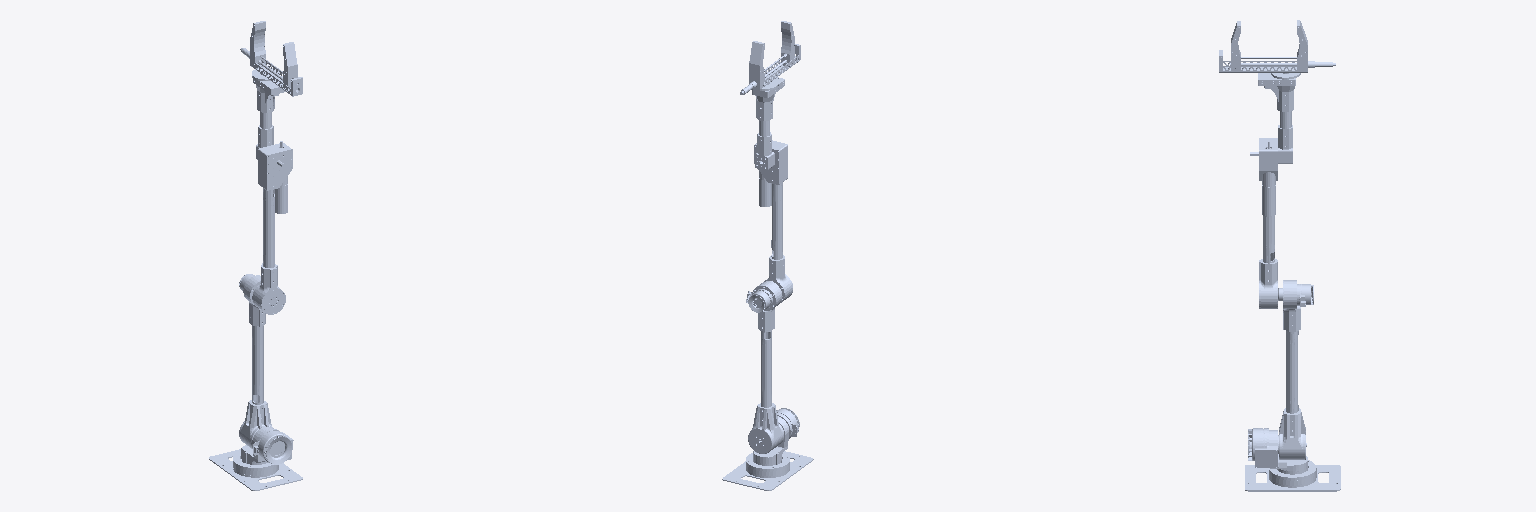
URDF robot description (brazo_2):
<?xml version="1.0" encoding="utf-8"?>
<robot name="brazo_2">

  <!-- ========================================== -->
  <!-- LINK BASE DEL BRAZO                        -->
  <!-- ========================================== -->
  <link name="base">
    <inertial>
      <origin xyz="1.39958423819865E-17 -4.11946375579782E-18 0.00933047710244957" rpy="0 0 0" />
      <mass value="0.594564150366253" />
      <inertia ixx="0.00220226641592648" ixy="3.38152256422411E-18" ixz="4.20144212304877E-18" iyy="0.00121595685384765" iyz="-4.68252440232623E-20" izz="0.00341204275167526" />
    </inertial>
    <visual>
      <origin xyz="0 0 0" rpy="0 0 0" />
      <geometry>
        <mesh filename="package://mi_rover_description/meshes/Brazo/base.STL" />
      </geometry>
      <material name="">
        <color rgba="0.866666666666667 0.909803921568627 1 1" />
      </material>
    </visual>
    <collision>
      <origin xyz="0 0 0" rpy="0 0 0" />
      <geometry>
        <mesh filename="package://mi_rover_description/meshes/Brazo/base.STL" />
      </geometry>
    </collision>
  </link>

  <!-- ========================================== -->
  <!-- LINK 1                                     -->
  <!-- ========================================== -->
  <link name="Link_1">
    <inertial>
      <origin xyz="0.00830108225016004 -0.0424137581999083 0.0474326767417051" rpy="0 0 0" />
      <mass value="1.05857299570185" />
      <inertia ixx="0.00117937368473566" ixy="0.000121093366641107" ixz="-5.0011054142264E-05" iyy="0.00108030167307535" iyz="0.000222958830256965" izz="0.00122776170114691" />
    </inertial>
    <visual>
      <origin xyz="0 0 0" rpy="0 0 0" />
      <geometry>
        <mesh filename="package://mi_rover_description/meshes/Brazo/Link_1.STL" />
      </geometry>
      <material name="">
        <color rgba="0.866666666666667 0.909803921568627 1 1" />
      </material>
    </visual>
    <collision>
      <origin xyz="0 0 0" rpy="0 0 0" />
      <geometry>
        <mesh filename="package://mi_rover_description/meshes/Brazo/Link_1.STL" />
      </geometry>
    </collision>
  </link>

  <!-- ========================================== -->
  <!-- JOINT 1 (BASE GIRATORIA)                   -->
  <!-- Motor: goBILDA Yellow Jacket 50.9:1 (12 V) -->
  <!--        + tornillo sin fin 10:1 (supuesto) -->
  <!-- SIN LÍMITES DE POSICIÓN (continuous).      -->
  <!-- ========================================== -->
  <joint name="Joint_1" type="continuous">
    <origin xyz="0 0 0.03" rpy="0 0 0" />
    <parent link="base" />
    <child link="Link_1" />
    <axis xyz="0 0 -1" />
    <!-- velocity: 117 RPM / 10 = 1.23 rad/s                         -->
    <!-- effort: par de bloqueo 6.71 N·m x 10 x 0.5 = 33.6 N·m        -->
    <!-- (tope físico; el límite de uso lo pone la corriente en el control) -->
    <limit effort="33.6" velocity="1.23" />
    <dynamics damping="1.0" friction="0.05"/>
  </joint>

  <!-- ========================================== -->
  <!-- LINK 2                                     -->
  <!-- ========================================== -->
  <link name="Link_2">
    <inertial>
      <origin xyz="0.000220391421112707 -0.254806409007157 -0.0333451288978256" rpy="0 0 0" />
      <mass value="0.975920981532861" />
      <inertia ixx="0.004422283964783726" ixy="-1.56952710811249E-07" ixz="6.90748814042608E-07" iyy="0.000500378936927172" iyz="-6.94997343328116E-05" izz="0.00434360107285825" />
    </inertial>
    <visual>
      <origin xyz="0 0 0" rpy="0 0 0" />
      <geometry>
        <mesh filename="package://mi_rover_description/meshes/Brazo/Link_2.STL" />
      </geometry>
      <material name="">
        <color rgba="0.866666666666667 0.909803921568627 1 1" />
      </material>
    </visual>
    <collision>
      <origin xyz="0 0 0" rpy="0 0 0" />
      <geometry>
        <mesh filename="package://mi_rover_description/meshes/Brazo/Link_2.STL" />
      </geometry>
    </collision>
  </link>

  <!-- ========================================== -->
  <!-- JOINT 2 (HOMBRO)                           -->
  <!-- Motor: Maxon EC 60 flat 642221 (24 V)      -->
  <!--        + GSW 62 A 867073 (strain wave 100:1) -->
  <!-- SIN LÍMITES DE POSICIÓN (continuous).      -->
  <!-- ========================================== -->
  <joint name="Joint_2" type="continuous">
    <origin xyz="0.00625 0.03585 0.0742" rpy="-1.5708 0 0" />
    <parent link="Link_1" />
    <child link="Link_2" />
    <axis xyz="0 0 1" />
    <!-- velocity: 3500 RPM (máx. entrada continua) / 100 = 3.67 rad/s -->
    <!-- effort: 37 N·m (máx. par intermitente del GSW 62 A)            -->
    <limit effort="37.0" velocity="3.67" />
    <dynamics damping="1.5" friction="0.05"/>
  </joint>

  <!-- ========================================== -->
  <!-- LINK 3                                     -->
  <!-- ========================================== -->
  <link name="Link_3">
    <inertial>
      <origin xyz="0.00963941202063687 0.22529482981309 -0.0257004642867256" rpy="0 0 0" />
      <mass value="1.38441974915215" />
      <inertia ixx="0.00469817934353504" ixy="-7.39032612536994E-05" ixz="-6.1207409739754E-10" iyy="0.000705603188859499" iyz="9.4891068778738E-06" izz="0.00493184594226307" />
    </inertial>
    <visual>
      <origin xyz="0 0 0" rpy="0 0 0" />
      <geometry>
        <mesh filename="package://mi_rover_description/meshes/Brazo/Link_3.STL" />
      </geometry>
      <material name="">
        <color rgba="0.866666666666667 0.909803921568627 1 1" />
      </material>
    </visual>
    <collision>
      <origin xyz="0 0 0" rpy="0 0 0" />
      <geometry>
        <mesh filename="package://mi_rover_description/meshes/Brazo/Link_3.STL" />
      </geometry>
    </collision>
  </link>

  <!-- ========================================== -->
  <!-- JOINT 3 (CODO)                             -->
  <!-- Motor: Maxon EC 60 flat 642221 (24 V)      -->
  <!--        + GSW 62 A 867073 (strain wave 100:1) -->
  <!-- ========================================== -->
  <joint name="Joint_3" type="revolute">
    <origin xyz="0 -0.45045 -0.12605" rpy="-3.1416 0 0" />
    <parent link="Link_2" />
    <child link="Link_3" />
    <axis xyz="0 0 -1" />
    <!-- velocity: 3500 RPM (máx. entrada continua) / 100 = 3.67 rad/s -->
    <!-- effort: 37 N·m (máx. par intermitente del GSW 62 A)            -->
    <limit lower="-3.1416" upper="3.1416" effort="37.0" velocity="3.67" />
    <dynamics damping="1.0" friction="0.05"/>
  </joint>

  <!-- ========================================== -->
  <!-- LINK 4                                     -->
  <!-- ========================================== -->
  <link name="Link_4">
    <inertial>
      <origin xyz="1.76664695372697E-09 -0.138606750179293 -0.0118359865270931" rpy="0 0 0" />
      <mass value="0.581802983405437" />
      <inertia ixx="0.000825785251805779" ixy="5.80528547944091E-12" ixz="-5.18791287355876E-12" iyy="0.000352010267825656" iyz="-2.10784198231409E-05" izz="0.000702088208596816" />
    </inertial>
    <visual>
      <origin xyz="0 0 0" rpy="0 0 0" />
      <geometry>
        <mesh filename="package://mi_rover_description/meshes/Brazo/Link_4.STL" />
      </geometry>
      <material name="">
        <color rgba="0.866666666666667 0.909803921568627 1 1" />
      </material>
    </visual>
    <collision>
      <origin xyz="0 0 0" rpy="0 0 0" />
      <geometry>
        <mesh filename="package://mi_rover_description/meshes/Brazo/Link_4.STL" />
      </geometry>
    </collision>
  </link>

  <!-- ========================================== -->
  <!-- JOINT 4 (MUÑECA)                           -->
  <!-- Motor: goBILDA Yellow Jacket 50.9:1 (12 V) -->
  <!--        + tornillo sin fin 10:1 (supuesto) -->
  <!-- ========================================== -->
  <joint name="Joint_4" type="revolute">
    <origin xyz="0.016 0.4295 -0.0771" rpy="3.1416 0 0" />
    <parent link="Link_3" />
    <child link="Link_4" />
    <axis xyz="0 0 1" />
    <!-- velocity: 1.23 rad/s; effort: 33.6 N·m (igual que J1) -->
    <limit lower="-3.1416" upper="3.1416" effort="33.6" velocity="1.23" />
    <dynamics damping="1.0" friction="0.05"/>
  </joint>

  <!-- ========================================== -->
  <!-- LINK 5                                     -->
  <!-- ========================================== -->
  <link name="Link_5">
    <inertial>
      <origin xyz="7.2400814162682E-07 -0.0433430287718577 0.051471065456673" rpy="0 0 0" />
      <mass value="0.406894631004107" />
      <inertia ixx="0.00110776348915288" ixy="7.11315522530653E-10" ixz="2.12955056598781E-10" iyy="0.000500975324315308" iyz="-9.82929624587456E-05" izz="0.000691088095582475" />
    </inertial>
    <visual>
      <origin xyz="0 0 0" rpy="0 0 0" />
      <geometry>
        <mesh filename="package://mi_rover_description/meshes/Brazo/Link_5.STL" />
      </geometry>
      <material name="">
        <color rgba="0.866666666666667 0.909803921568627 1 1" />
      </material>
    </visual>
    <collision>
      <origin xyz="0 0 0" rpy="0 0 0" />
      <geometry>
        <mesh filename="package://mi_rover_description/meshes/Brazo/Link_5.STL" />
      </geometry>
    </collision>
  </link>

  <!-- ========================================== -->
  <!-- JOINT 5 (ACTUADOR FINAL)                   -->
  <!-- Motor: Servo Rotación Continua             -->
  <!-- Nota: type="continuous" no usa lower/upper -->
  <!-- ========================================== -->
  <joint name="Joint_5" type="continuous">
    <origin xyz="0 -0.2475 -0.0057" rpy="1.5708 0 0" />
    <parent link="Link_4" />
    <child link="Link_5" />
    <axis xyz="0 0 1" />
    <limit effort="6.0" velocity="6.28" />
    <dynamics damping="0.5" friction="0.01"/>
  </joint>

</robot>

--- What the picture shows (computed from the rendered views, not written in the file) ---
Views: 3 orthographic renders of the robot side by side, from view 1: azimuth 30°, elevation 25°; view 2: azimuth 150°, elevation 25°; view 3: azimuth 270°, elevation 25°.
Robot: brazo_2 — 6 links, 5 joints (2 revolute, 3 continuous); root link base; default pose: all joints at 0.
Visible links, largest first — view 1: Link_3, Link_2, Link_5, base, Link_1, Link_4; view 2: Link_2, Link_3, Link_5, base, Link_4, Link_1; view 3: Link_2, Link_3, base, Link_5, Link_4, Link_1.
Boxes of the visible links, x1,y1,x2,y2 form: Link_3: (252,141,292,314); Link_2: (239,274,272,448); Link_5: (240,21,302,96); base: (209,449,302,490); Link_1: (241,427,293,464); Link_4: (252,68,285,159); Link_2: (746,281,783,453); Link_3: (754,140,792,302); Link_5: (740,21,800,94); base: (722,451,813,490); Link_4: (752,77,784,170); Link_1: (753,408,799,465); Link_2: (1278,280,1313,459); Link_3: (1250,138,1277,308); base: (1245,460,1340,491); Link_5: (1219,20,1335,72); Link_4: (1258,69,1300,163); Link_1: (1248,428,1307,474).
Bounding box of the posed robot: 0.165 × 0.3288 × 1.38 m (x, y, z).
6 mesh visuals loaded from 6 distinct referenced files (6 binary STL).
